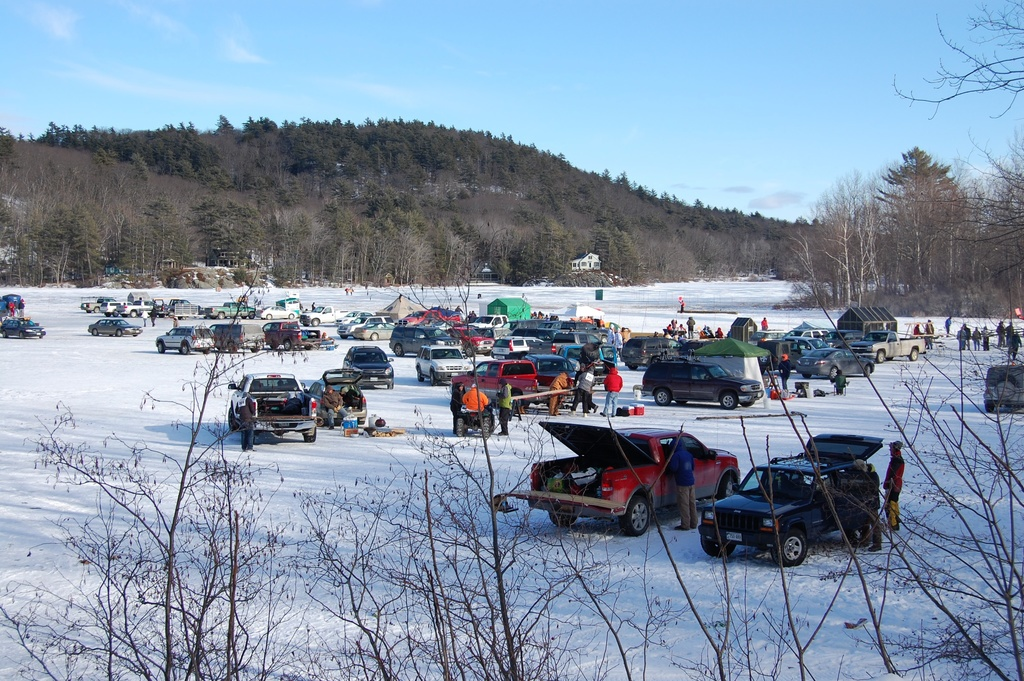Car: (693, 426, 882, 559), (224, 372, 329, 445), (339, 345, 394, 388), (979, 354, 1023, 406), (416, 347, 472, 381), (150, 323, 216, 349), (0, 315, 46, 337), (484, 337, 530, 357), (87, 318, 140, 335), (349, 323, 392, 342)
